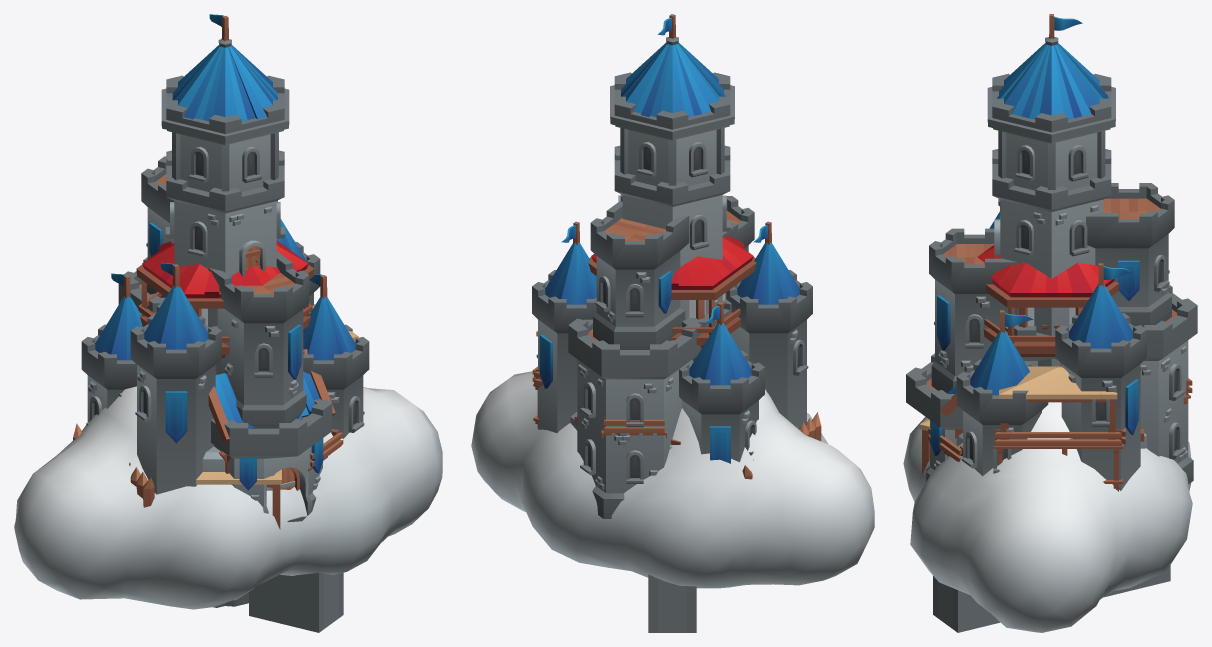
The model's file is village.glb.
3 renders of one model, left to right at view 1: azimuth 30°, elevation 25°; view 2: azimuth 150°, elevation 25°; view 3: azimuth 270°, elevation 25°, orthographic. The views are drawn at different scales.
Parts seen in each view (by area): view 1: building_castle_blue, cloud_big, building_bridge_A, building_tower_B_top_red, building_watermill_blue, building_scaffolding, fence_wood_straight; view 2: building_castle_blue, cloud_big, building_tower_B_top_red, building_bridge_A, building_scaffolding; view 3: building_castle_blue, cloud_big, building_scaffolding, building_tower_B_top_red, building_bridge_A, building_tower_A_top_blue, building_tower_A_blue.
Part boxes in pixels (x1,y1,x2,y2): building_castle_blue: (81, 14, 369, 521); cloud_big: (14, 386, 442, 609); building_bridge_A: (213, 572, 343, 632); building_tower_B_top_red: (136, 240, 314, 357); building_watermill_blue: (208, 349, 335, 473); building_scaffolding: (196, 304, 358, 529); fence_wood_straight: (73, 423, 154, 507); building_castle_blue: (532, 14, 812, 518); cloud_big: (471, 371, 874, 588); building_tower_B_top_red: (588, 235, 756, 347); building_bridge_A: (648, 574, 696, 632); building_scaffolding: (532, 330, 666, 438); building_castle_blue: (906, 14, 1197, 490); cloud_big: (903, 402, 1192, 632); building_scaffolding: (919, 366, 1192, 491); building_tower_B_top_red: (977, 245, 1119, 356); building_bridge_A: (933, 565, 1170, 632); building_tower_A_top_blue: (1017, 307, 1083, 329); building_tower_A_blue: (1005, 324, 1056, 366).
Bounding box in the file's own units: 3.61 × 4.98 × 2.28.
1 material, 1 textured.
